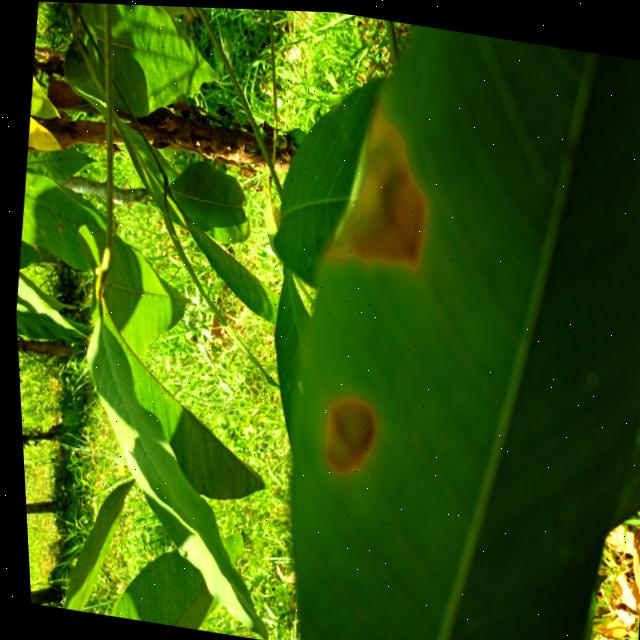Leaf-Blight: (313, 85, 440, 275), (314, 389, 375, 480)
